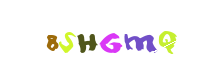8: (34, 0, 114, 80)
G: (70, 0, 150, 80)
H: (67, 0, 147, 80)
M: (87, 0, 167, 80)
Q: (100, 0, 180, 80)
S: (64, 0, 144, 80)
